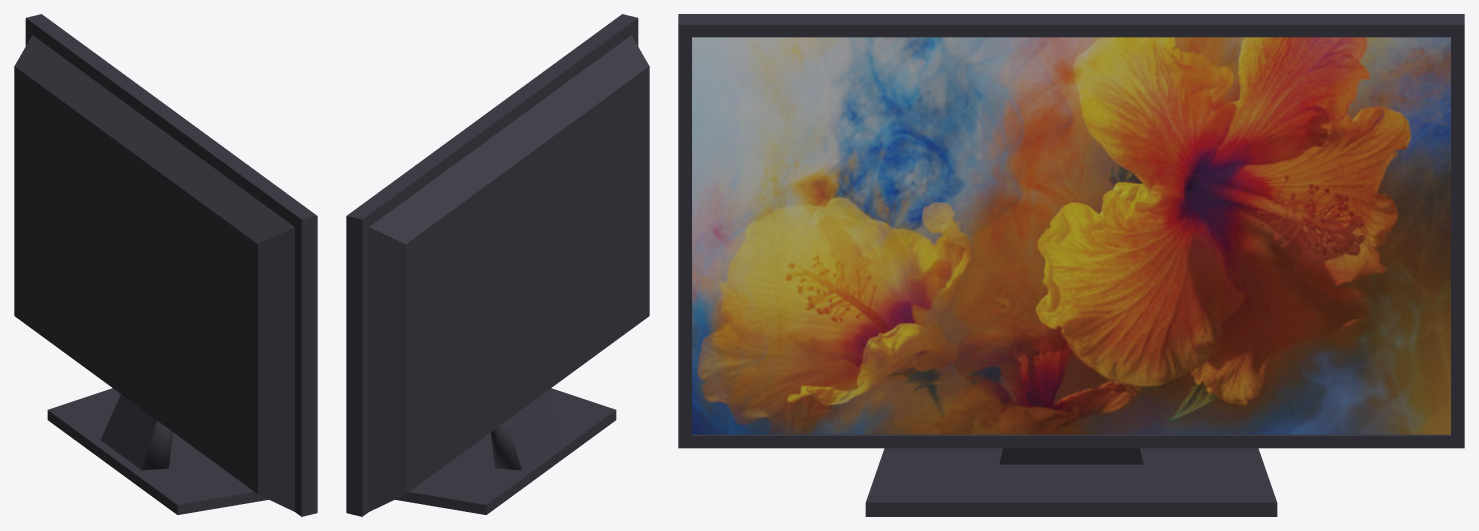
Rendered from E3569E44-C8FD-4C66-BD4A-FDAF4EB57BE3.dae.
3 views of the same model, side by side, from view 1: azimuth 30°, elevation 25°; view 2: azimuth 150°, elevation 25°; view 3: azimuth 270°, elevation 25° (orthographic). The views are drawn at different scales.
Parts seen in each view (by area): view 1: TV_32; view 2: TV_32; view 3: TV_32.
Part boxes in pixels (x1,y1,x2,y2): TV_32: (14, 14, 317, 516); TV_32: (346, 14, 649, 516); TV_32: (678, 14, 1464, 516).
Bounding box in the file's own units: 0.132 × 0.737 × 0.4956.
Materials: 2 (2 with a texture image).
